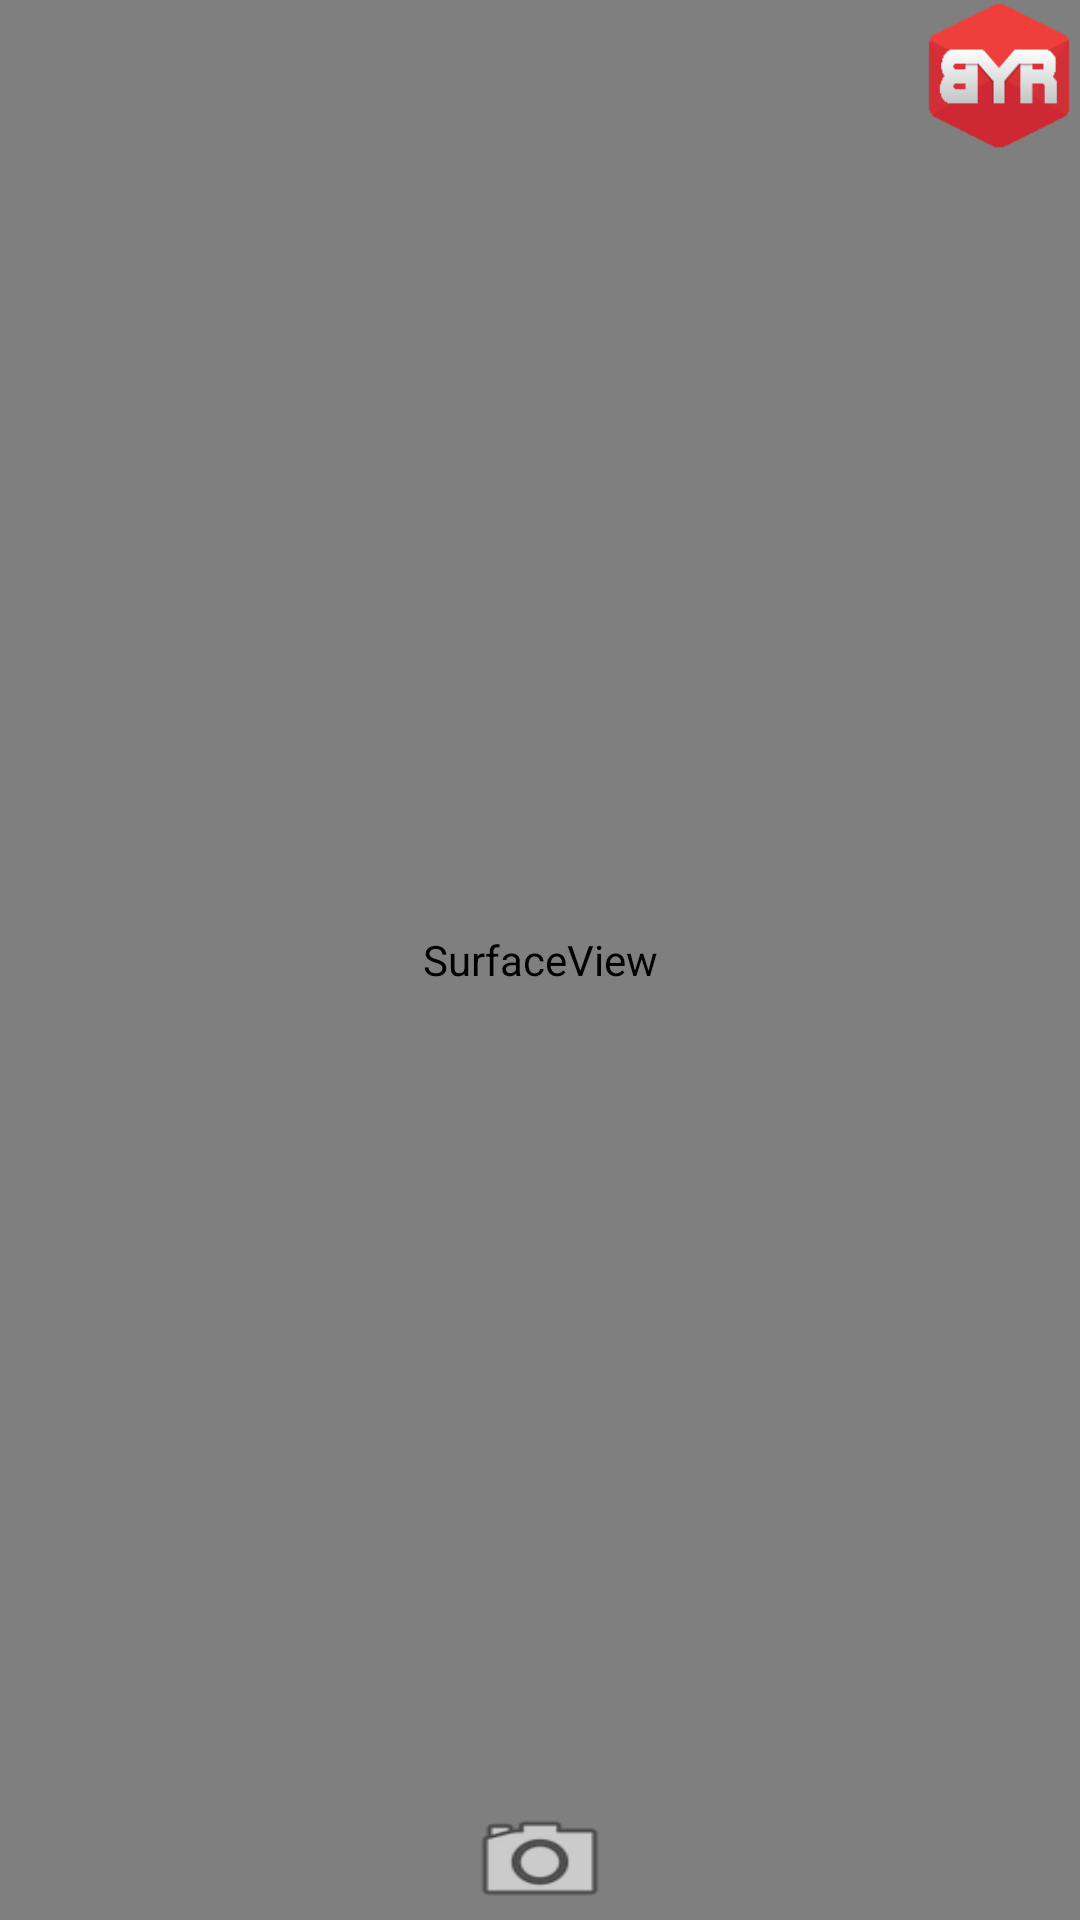

Icon click points for this 1080*1920 phone screenshot, format (x,y):
camera: (540,1858)
